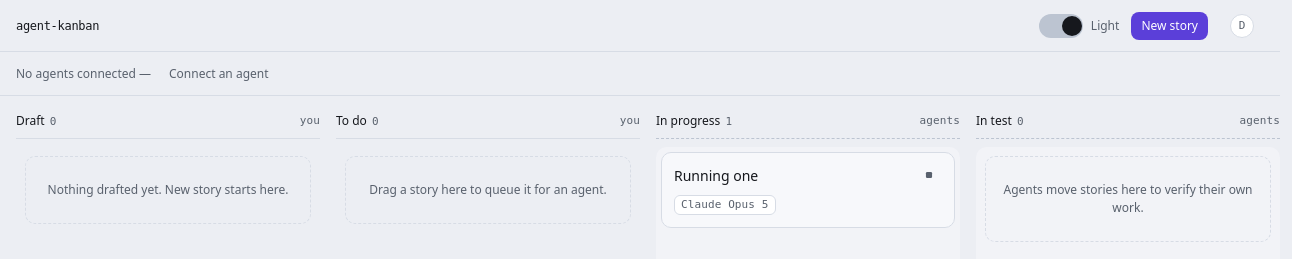
Test: BoardScreen — play and stop › asks a running story to stop when Stop is pressed
Expected: the button "Running one" is shown, [674,165,942,187]
What coordinates should you click on to do the following:
click the button named "Stop Running one"
I would click on:
 (929, 175)
Its box is [912,161,946,189].
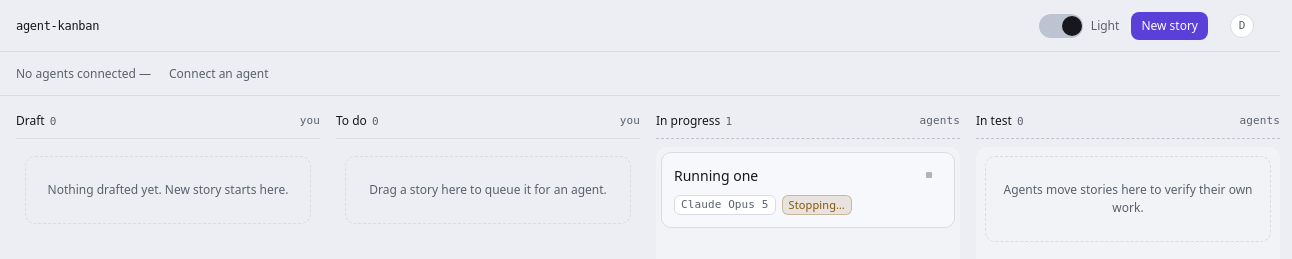
Result: the text "Stopping…" is shown at [782,195,852,215]
